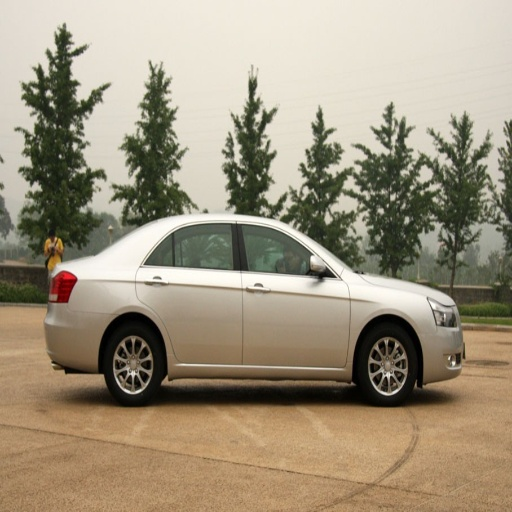back_right_door: (139, 221, 242, 363)
front_right_door: (239, 222, 349, 366)
